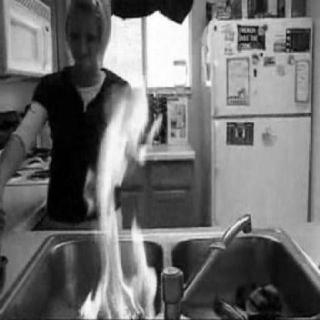Fire: (59, 44, 167, 316)
